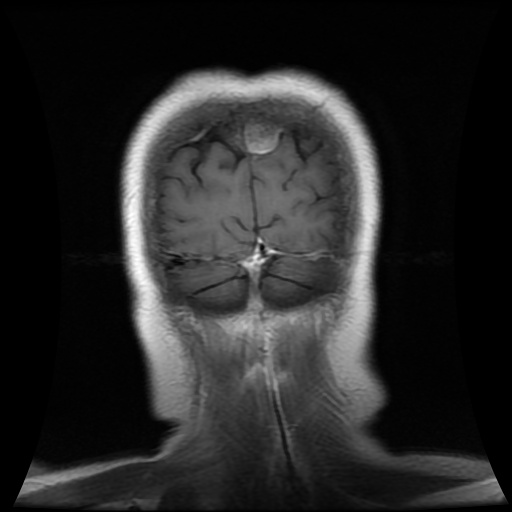meningioma: (244, 121, 282, 155)
